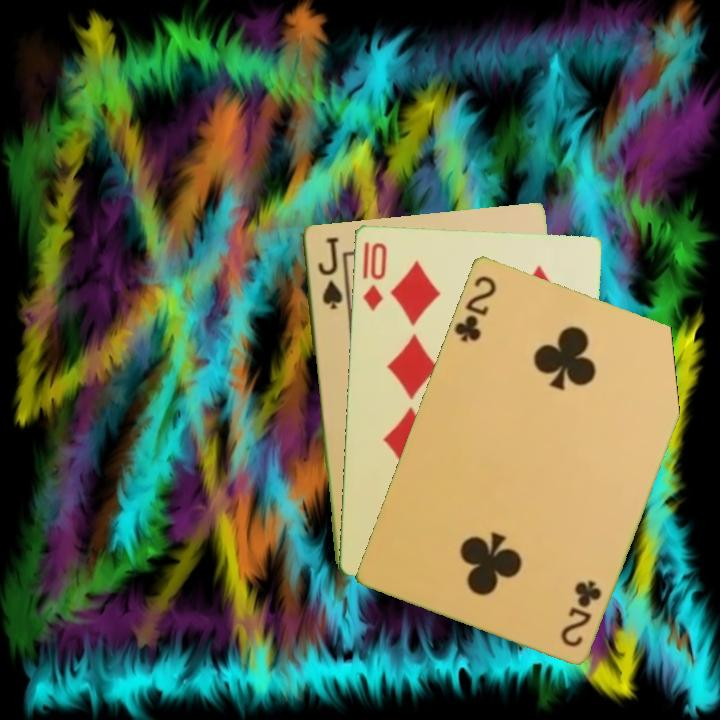10d: (358, 237, 390, 314)
2c: (450, 271, 499, 345), (557, 576, 605, 649)
Js: (314, 233, 344, 312)
